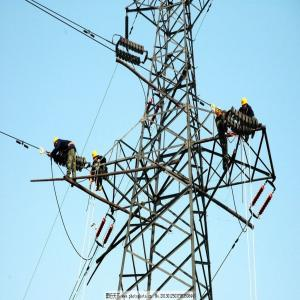yellow: (91, 150, 99, 164), (241, 97, 249, 111), (52, 137, 60, 148)
